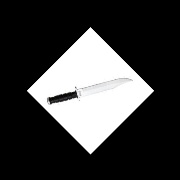k1: (73, 76, 134, 101)
